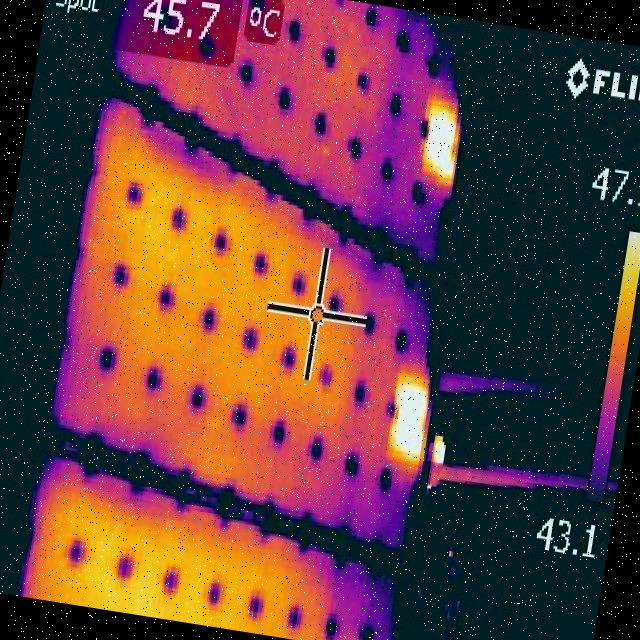Hotspot: (378, 364, 438, 474), (409, 94, 466, 195)
